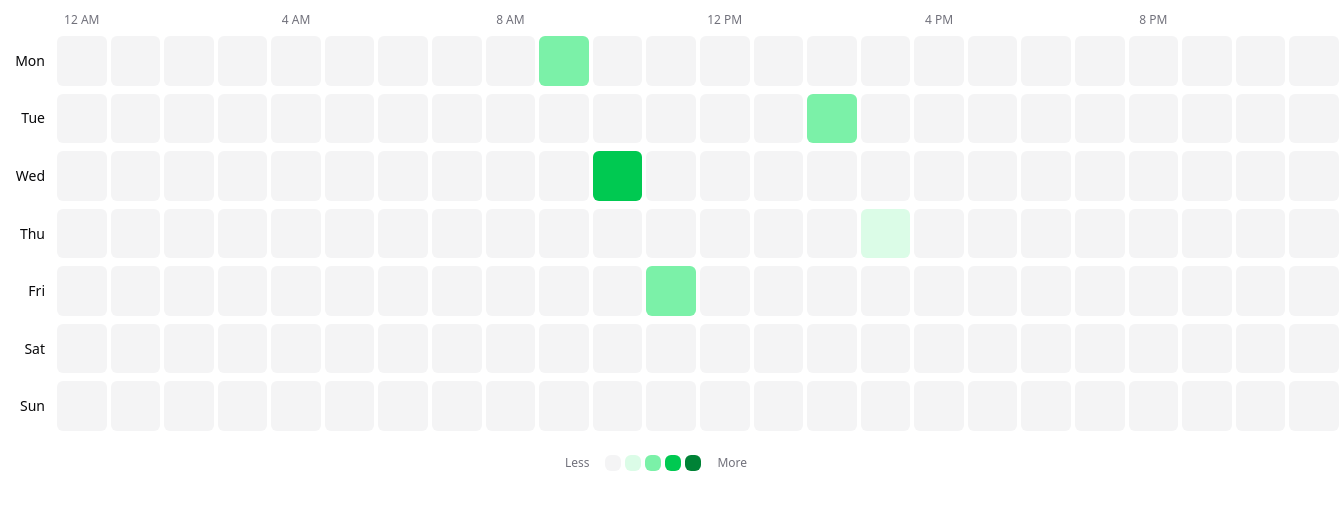
Scenario: ActivityHeatmap › Interactive Features › should show tooltip on hover
Hover over the element with test id "cell-0-9" at [564, 61], box [539,36,589,86]
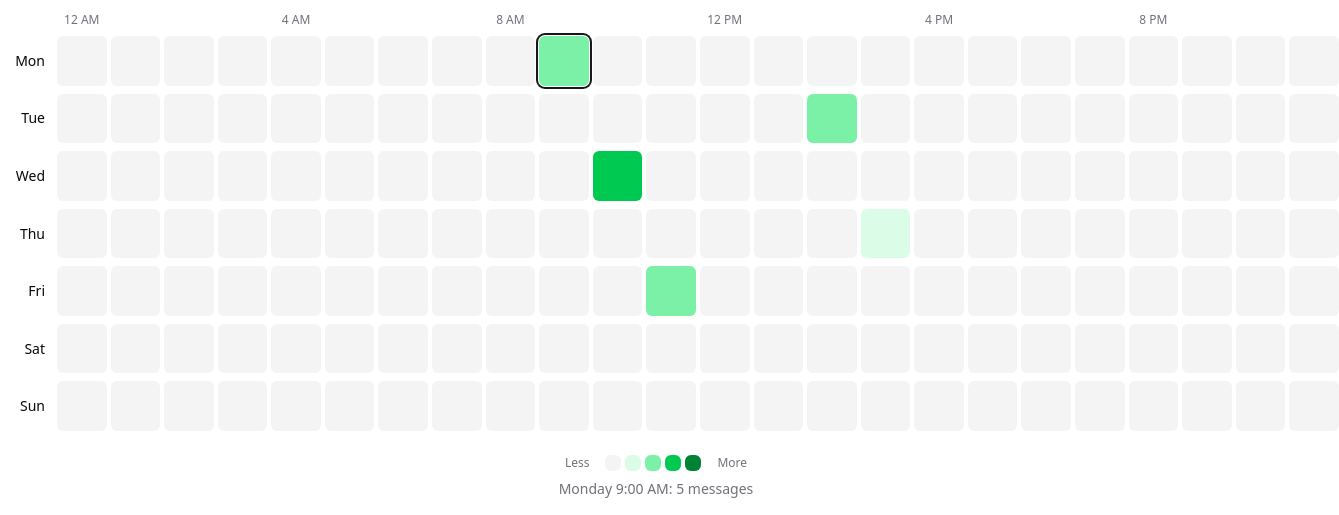
Result: the text "Monday 9:00 AM: 5 messages" is shown at [559,479,753,498]
